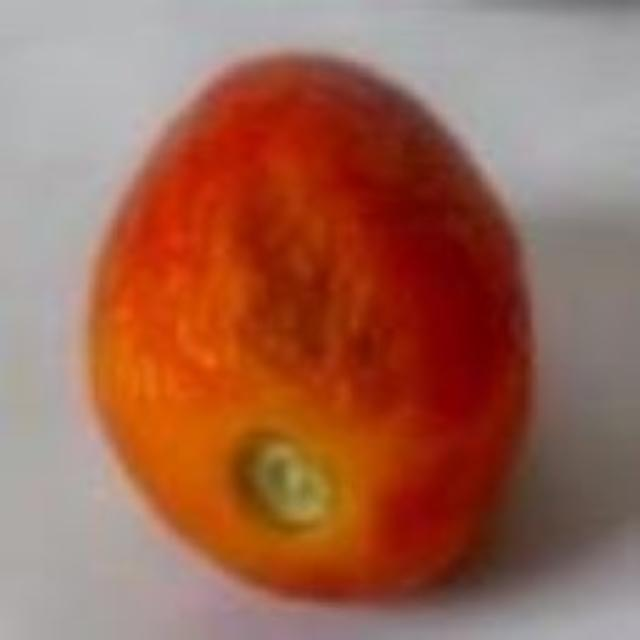defect: (78, 50, 542, 608)
